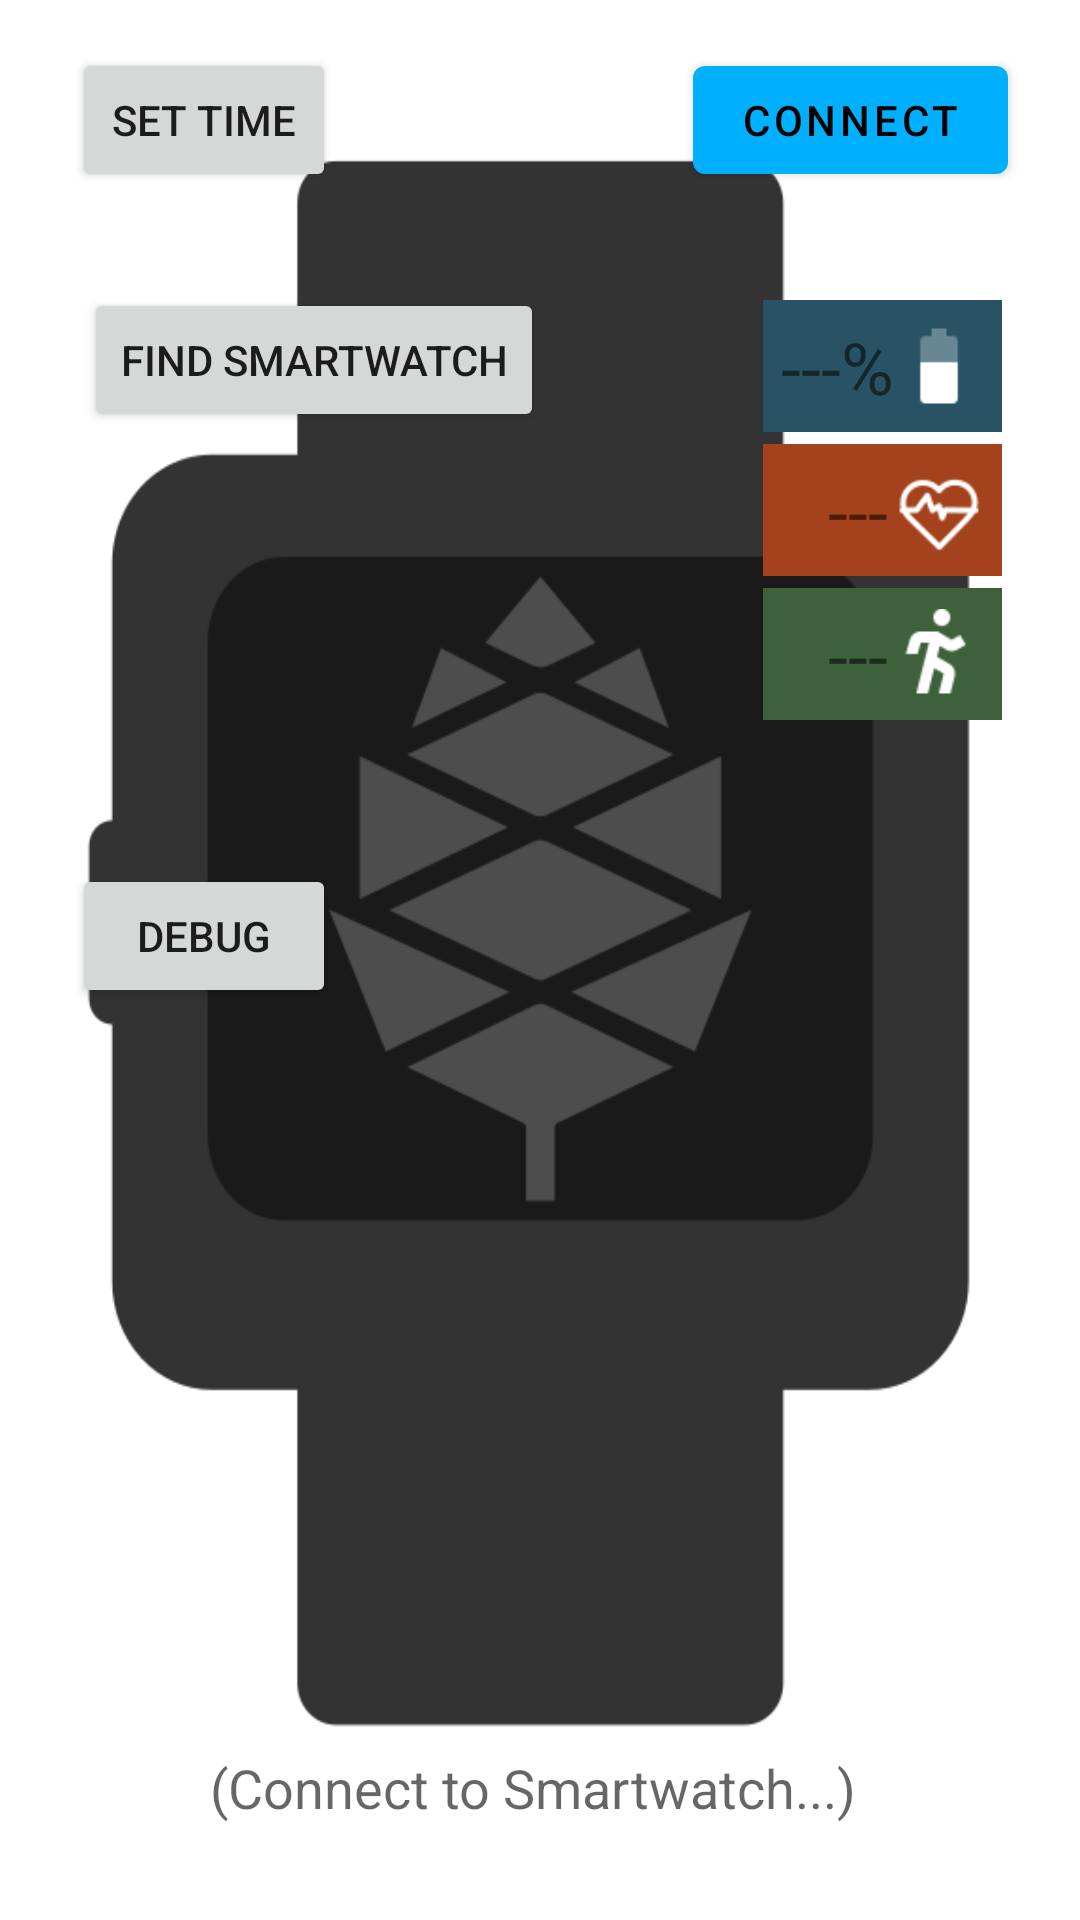

Named icons in this screenshot (1080×1920) and their bounding boxes, (x1, y1, x2, y2):
battery: (920, 328, 958, 404)
heart rate: (899, 479, 979, 551)
walk: (905, 609, 966, 694)
